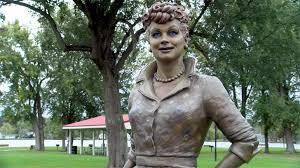person-like: (120, 1, 260, 168)
